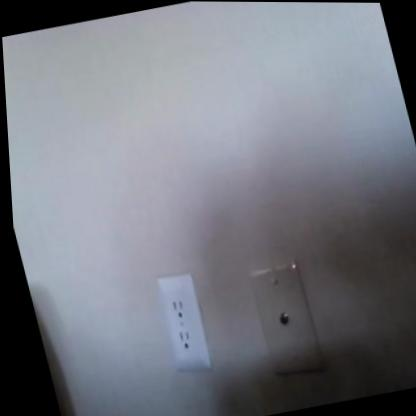OUTLET: (154, 275, 212, 374)
